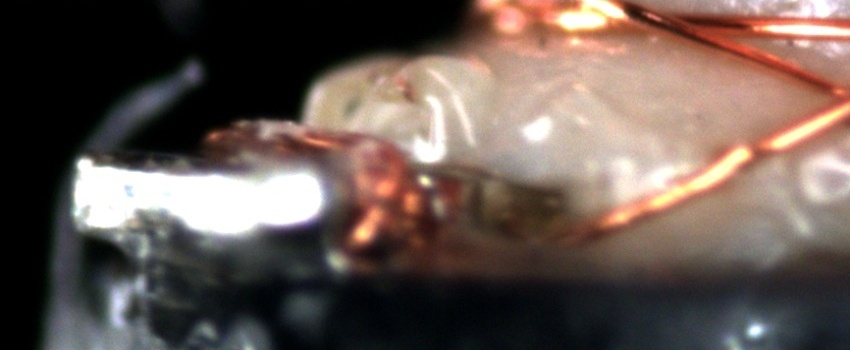TE: (216, 116, 426, 249)
